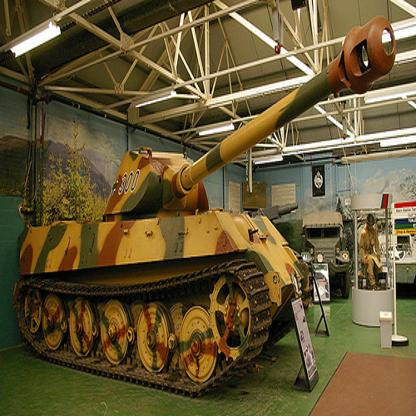Tank: (12, 22, 404, 400)
